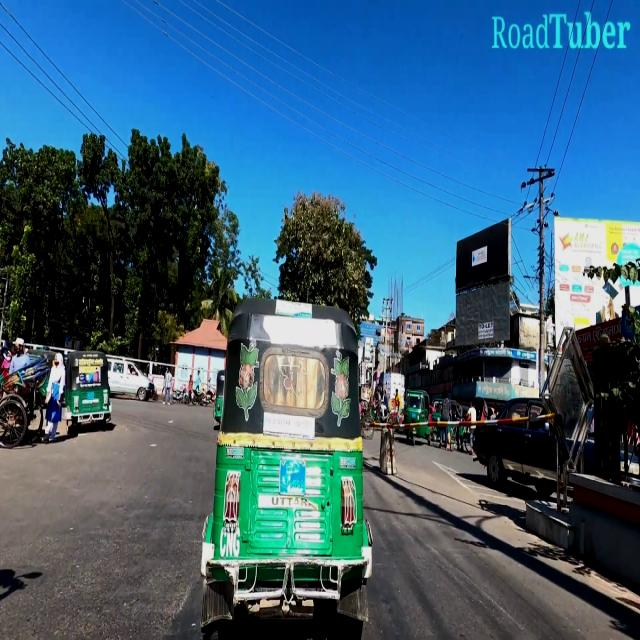blue: (471, 397, 598, 490)
silver: (108, 358, 156, 402)
